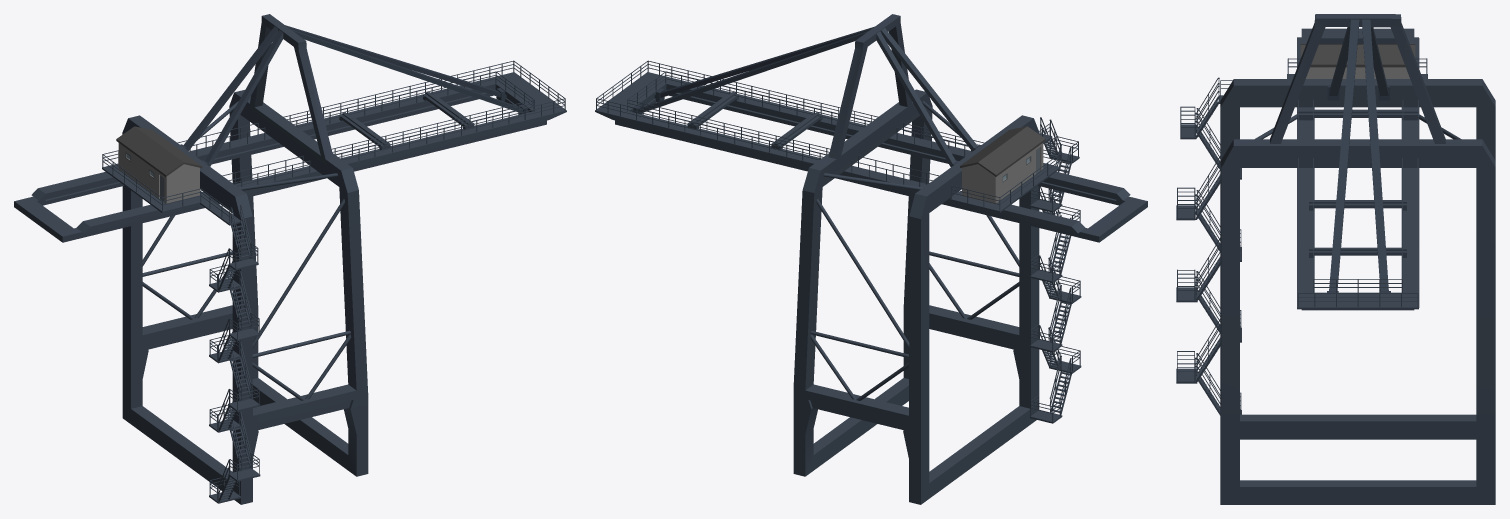
Rendered from SM_Buildings_Port_04.fbx.
3 renders of one model, left to right at view 1: azimuth 30°, elevation 25°; view 2: azimuth 150°, elevation 25°; view 3: azimuth 270°, elevation 25°, orthographic. The views are drawn at different scales.
Visible parts, largest first — view 1: SM_Buildings_Port_04; view 2: SM_Buildings_Port_04; view 3: SM_Buildings_Port_04.
Boxes of the visible parts, <box> form: SM_Buildings_Port_04: <box>14,14,566,504</box>; SM_Buildings_Port_04: <box>595,14,1147,504</box>; SM_Buildings_Port_04: <box>1176,14,1495,504</box>.
Size of the model in its own units: 39.35 by 30.57 by 18.66.
